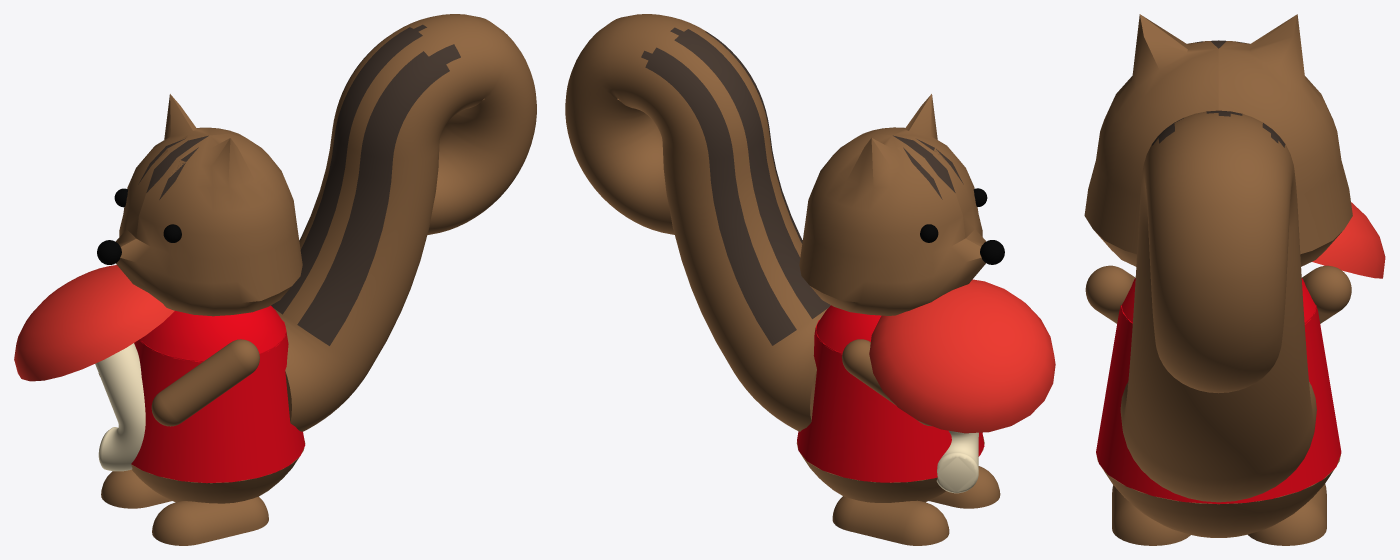
File: squirrel.fbx
3 renders of one model, left to right at view 1: azimuth 30°, elevation 25°; view 2: azimuth 150°, elevation 25°; view 3: azimuth 270°, elevation 25°, orthographic. The views are drawn at different scales.
Parts seen in each view (by area): view 1: tail, head, body_, mushroom, foot, body_cap, stipe, arm, body_bottom; view 2: tail, head, mushroom, body_, foot, body_bottom, stipe, body_cap, arm; view 3: tail, head, body_, body_bottom, foot, arm, mushroom, body_cap.
Part boxes in pixels (box(x1,y1,x2,y2)): tail: box(271, 14, 536, 431); head: box(115, 94, 302, 316); body_: box(131, 320, 305, 483); mushroom: box(14, 265, 174, 381); foot: box(101, 469, 268, 545); body_cap: box(139, 305, 286, 362); stipe: box(95, 343, 145, 471); arm: box(98, 339, 259, 426); body_bottom: box(131, 438, 305, 503); tail: box(565, 14, 830, 431); head: box(799, 94, 985, 315); mushroom: box(869, 279, 1055, 433); body_: box(797, 320, 984, 482); foot: box(832, 466, 1000, 545); body_bottom: box(796, 436, 984, 502); stipe: box(936, 430, 978, 493); body_cap: box(815, 305, 881, 354); arm: box(842, 339, 931, 426); tail: box(1120, 110, 1316, 502); head: box(1084, 14, 1352, 266); body_: box(1096, 305, 1341, 504); body_bottom: box(1096, 453, 1341, 537); foot: box(1112, 484, 1326, 545); arm: box(1085, 265, 1351, 323); mushroom: box(1312, 202, 1385, 278); body_cap: box(1121, 278, 1316, 324).
Bounding box in the file's own units: 896 × 744 × 368.
